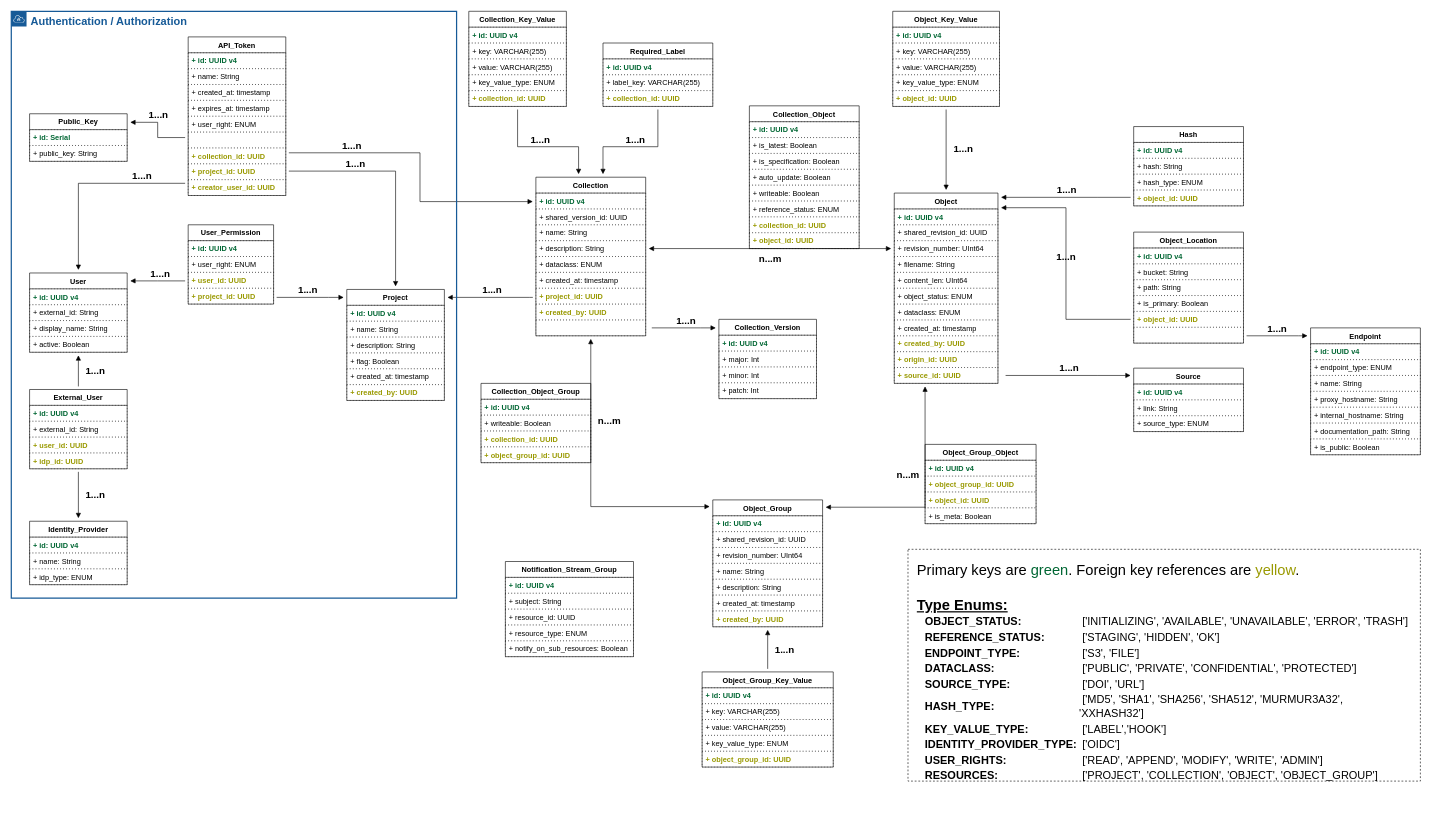
The diagram is 1431 pixels wide and 828 high, and some of its shapes have lost their labels. Here are the shapes that lost their labels. From the top down, the centre of each, then its label:
At (x=237, y=139): "+ public_key_id: Serial".
At (x=590, y=327): "+ version_id: UUID".
At (x=1188, y=335): "+ endpoint_id: UUID".
